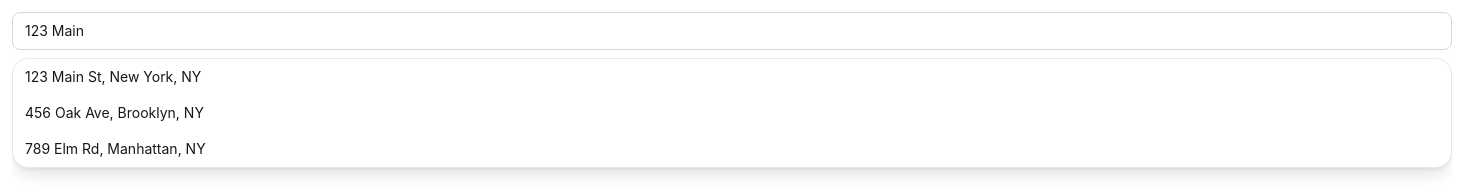
Test case: PlacesAutocompleteInput › suggestion selection › closes dropdown after selection
Expected: the list is shown, [12,58,1452,168]
Click the option "123 Main St, New York, NY": [113, 76] box [13,59,1451,95]
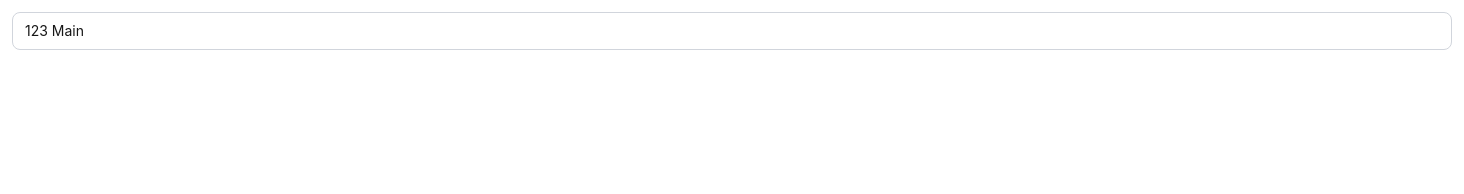
Expected: the list is gone
